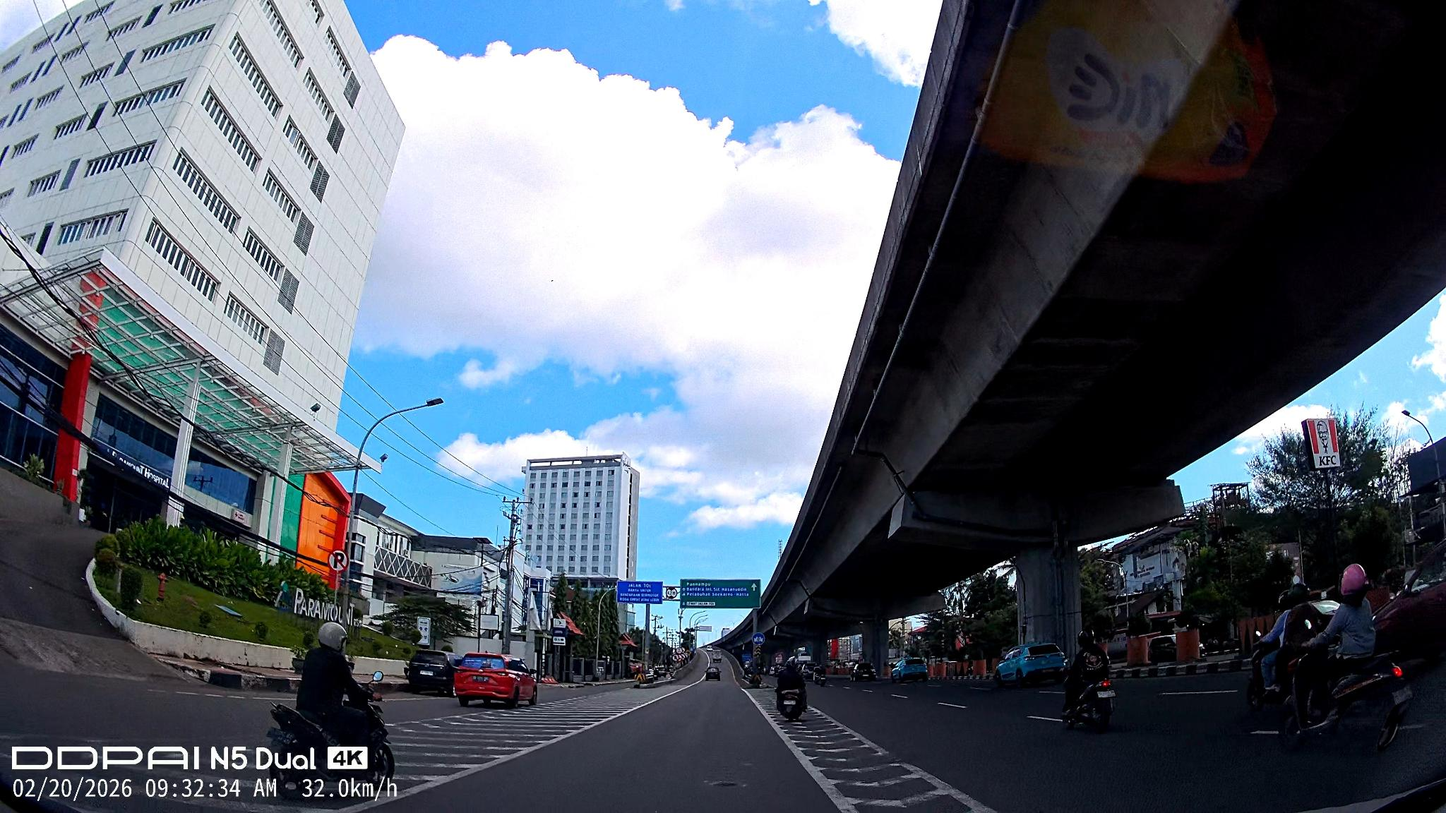rambu_teks: (681, 579, 761, 608), (617, 581, 663, 604)
